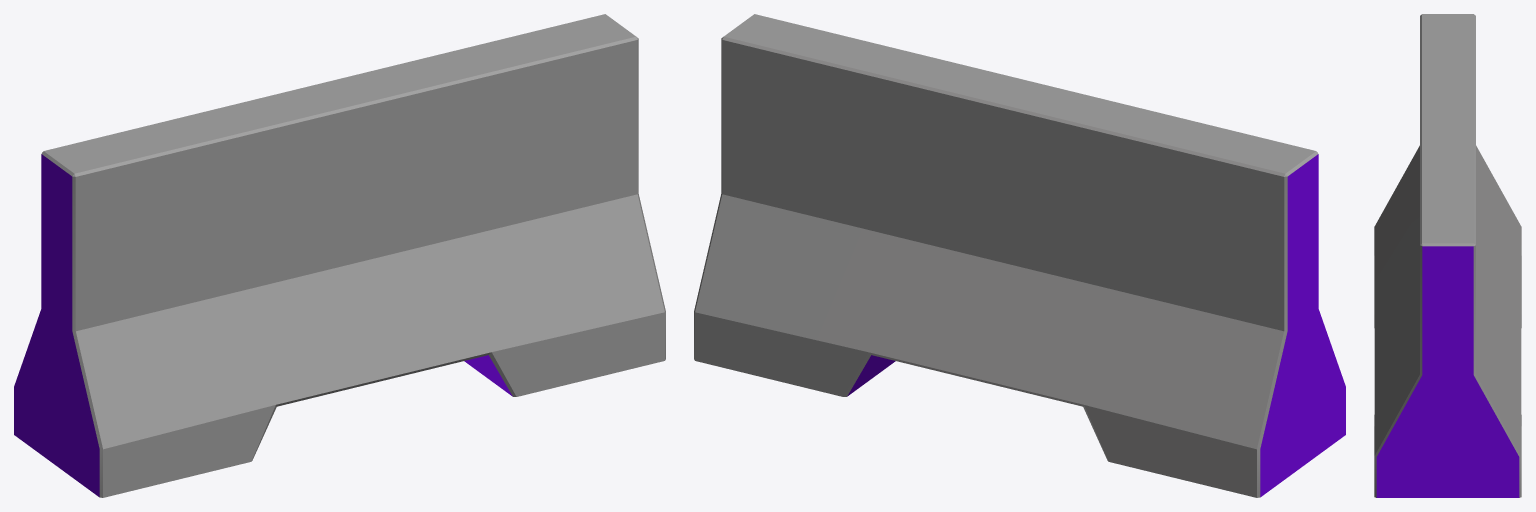
File: Barricade_Concrete_04.fbx
3 renders of one model, left to right at view 1: azimuth 30°, elevation 25°; view 2: azimuth 150°, elevation 25°; view 3: azimuth 270°, elevation 25°, orthographic. The views are drawn at different scales.
Visible parts, largest first — view 1: Obstacle_Barricade_Concrete_04; view 2: Obstacle_Barricade_Concrete_04; view 3: Obstacle_Barricade_Concrete_04.
Part boxes in pixels (<box>): Obstacle_Barricade_Concrete_04: <box>14,14,665,497</box>; Obstacle_Barricade_Concrete_04: <box>694,14,1345,497</box>; Obstacle_Barricade_Concrete_04: <box>1374,14,1521,497</box>.
Size of the model in its own units: 128 by 65.67 by 34.54.
1 material, 1 textured.
